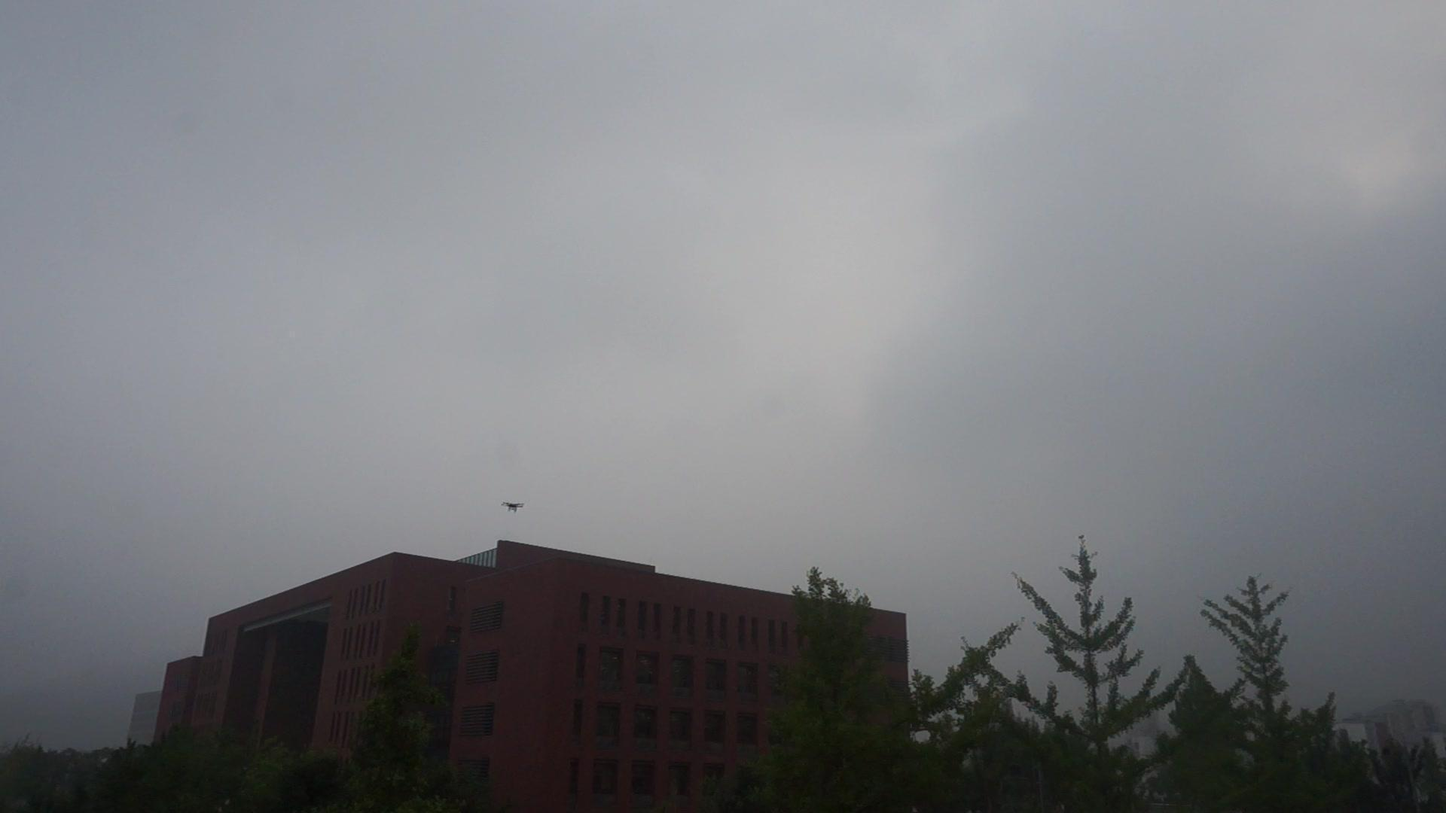UAV: (502, 502, 526, 514)
